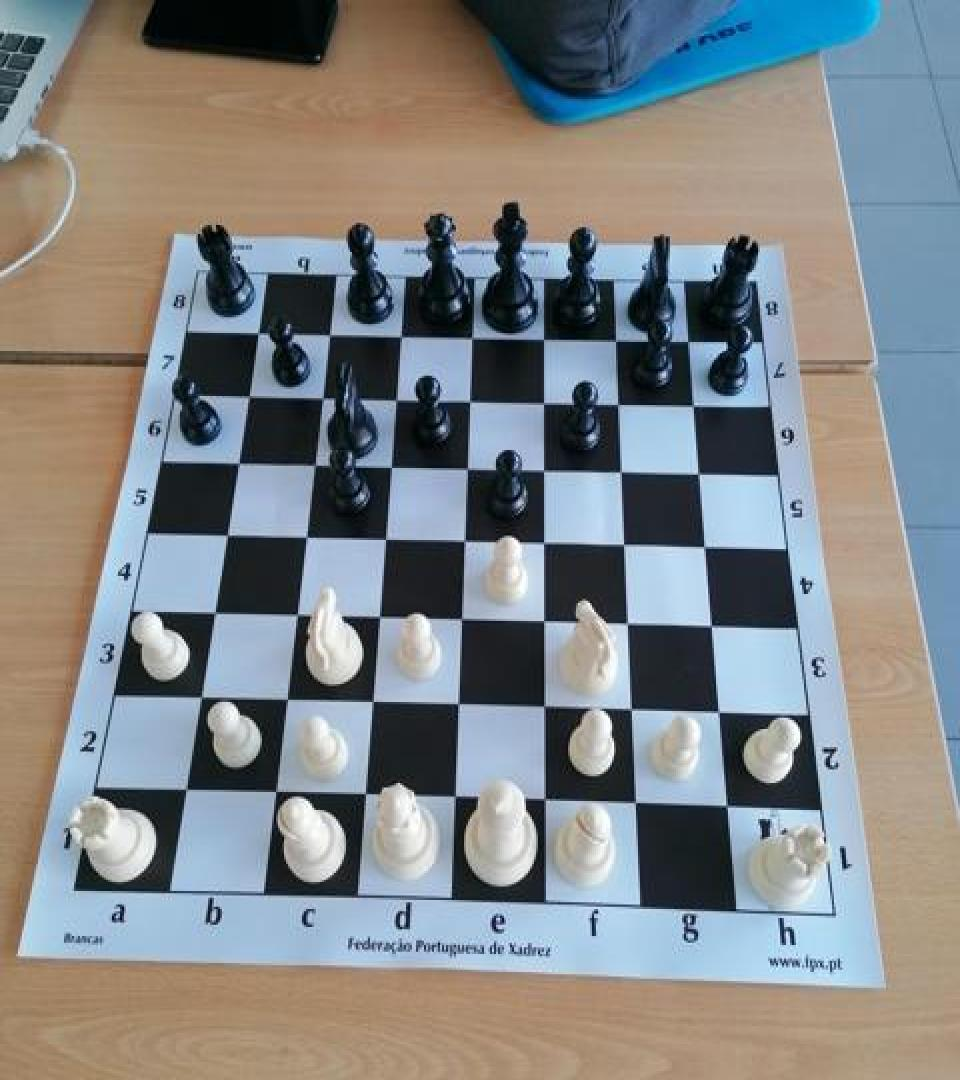xcorner: (443, 689, 475, 726), (614, 608, 646, 645), (706, 697, 738, 734), (240, 314, 272, 350), (230, 378, 262, 414), (208, 518, 240, 554), (196, 596, 228, 632), (182, 682, 214, 718), (168, 773, 200, 809), (312, 316, 344, 352), (304, 379, 336, 415), (297, 448, 329, 484), (288, 521, 320, 557), (279, 600, 311, 636), (269, 684, 301, 720), (258, 776, 290, 812), (384, 318, 416, 354), (379, 382, 411, 418), (374, 450, 406, 486), (368, 523, 400, 559), (362, 602, 394, 638), (356, 686, 388, 722), (349, 780, 381, 816), (457, 320, 489, 356), (452, 451, 484, 487), (449, 526, 481, 562), (446, 604, 478, 640), (439, 782, 471, 818), (529, 322, 561, 358), (529, 385, 561, 421), (530, 454, 562, 490), (530, 528, 562, 564), (530, 606, 562, 642), (530, 692, 562, 728), (530, 785, 562, 821), (602, 323, 634, 359), (605, 387, 637, 423), (608, 456, 640, 492), (611, 530, 643, 566), (618, 695, 650, 731), (622, 788, 654, 824), (675, 325, 707, 361), (680, 389, 712, 425), (686, 458, 718, 494), (692, 532, 724, 568), (698, 611, 730, 647), (713, 791, 745, 827), (219, 446, 251, 481), (454, 384, 486, 419)
